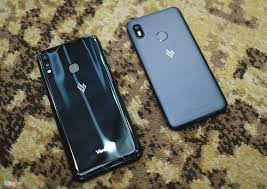vsmart: (35, 31, 142, 178), (124, 7, 230, 131)
